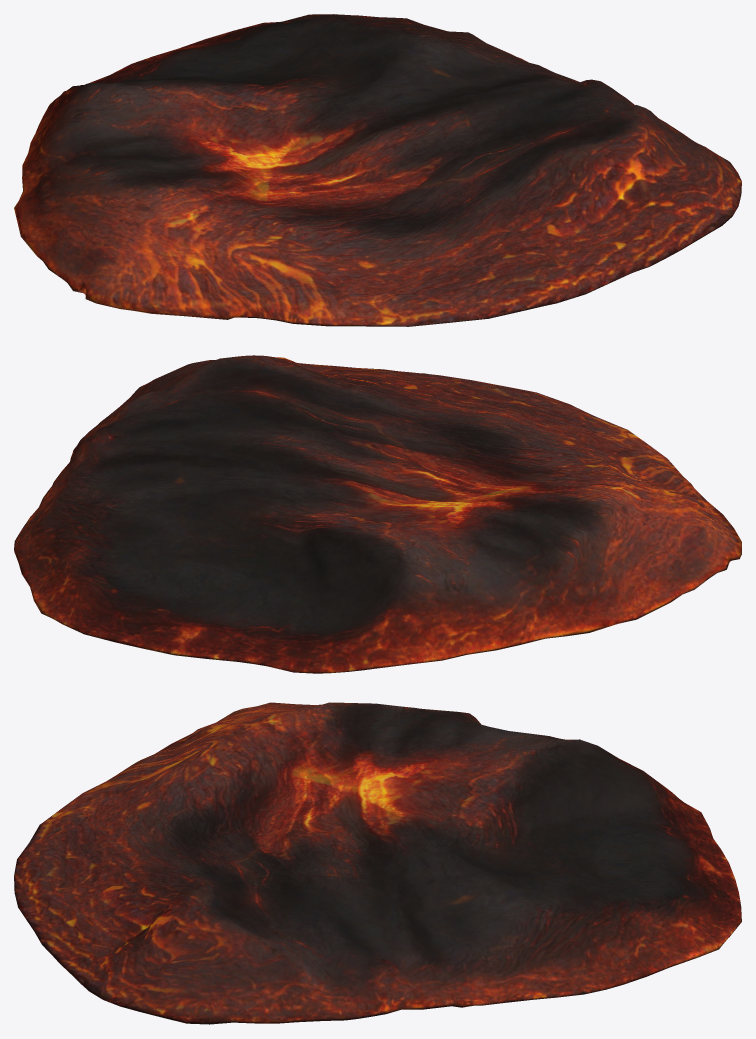
3 views of the same model, one above another, from view 1: azimuth 30°, elevation 25°; view 2: azimuth 150°, elevation 25°; view 3: azimuth 270°, elevation 25° (orthographic).
Bounding box in the file's own units: 1.99 × 0.2066 × 1.98.
Materials: 1 (1 with a texture image).
